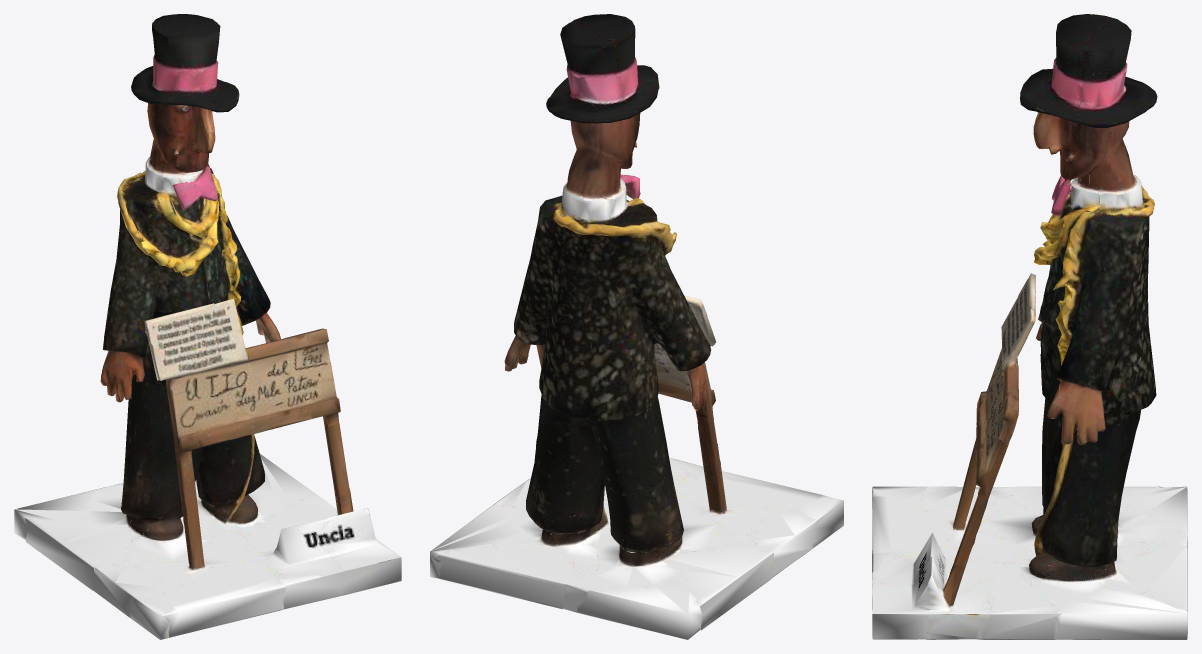
File: el_tio.glb
The picture shows the model from 3 angles, left to right: view 1: azimuth 30°, elevation 25°; view 2: azimuth 150°, elevation 25°; view 3: azimuth 270°, elevation 25°; orthographic projection. The views are drawn at different scales.
Visible parts, largest first — view 1: Mesh_0; view 2: Mesh_0; view 3: Mesh_0.
Part boxes in pixels (<box>): Mesh_0: <box>14,14,401,639</box>; Mesh_0: <box>430,14,843,639</box>; Mesh_0: <box>872,14,1187,639</box>.
Size of the model in its own units: 0.9422 by 1.9 by 0.9854.
1 material, 1 textured.
